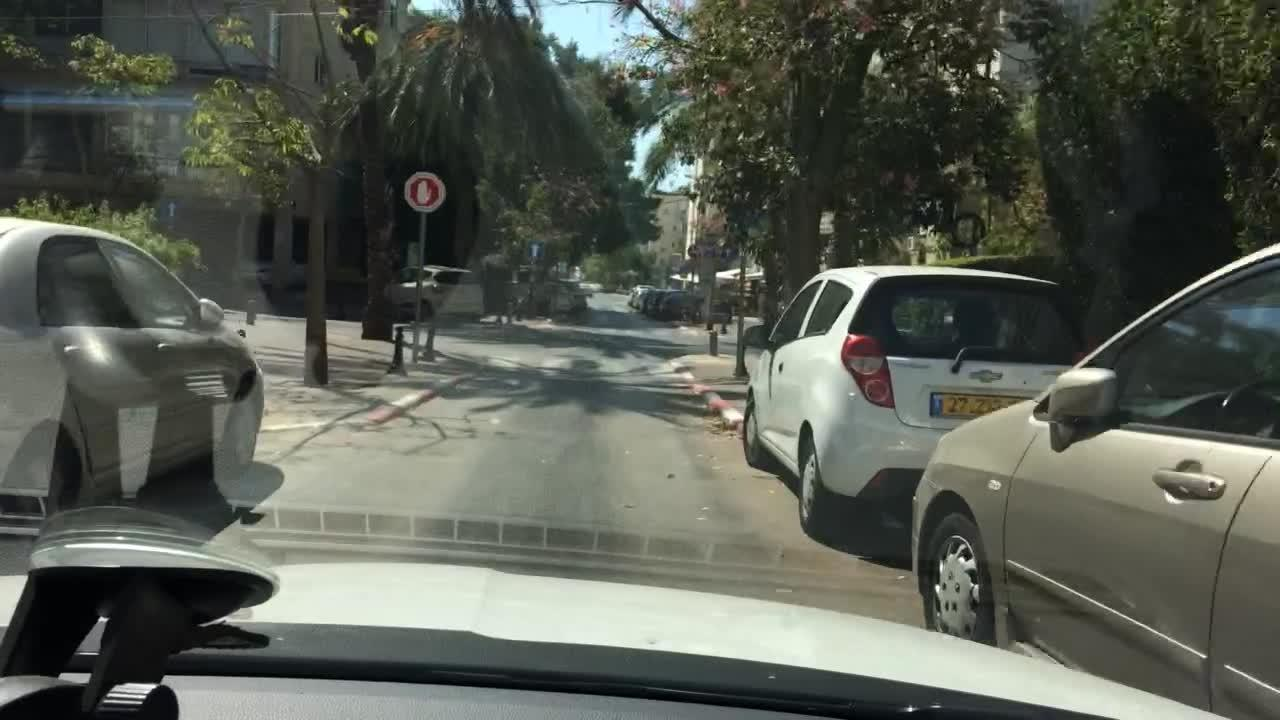chevrolet: (967, 364, 1013, 387)
